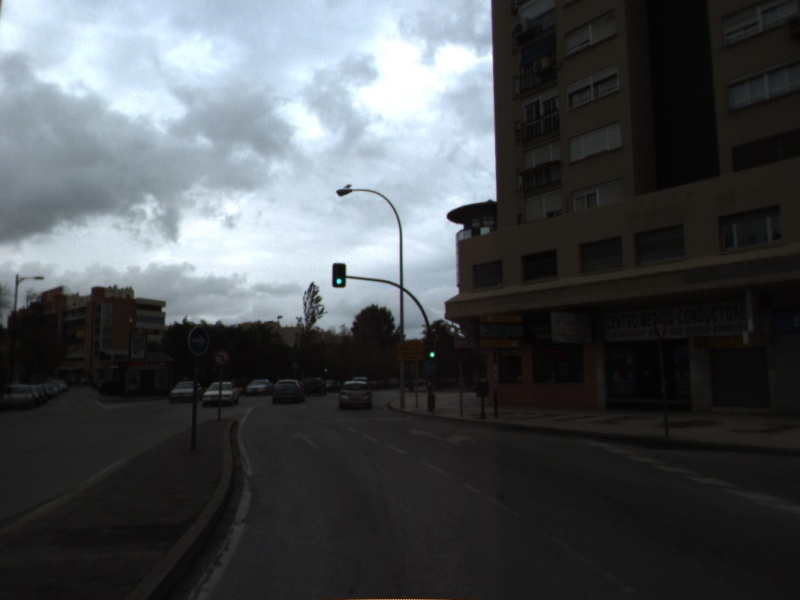STRAIGHT: (290, 429, 322, 450)
STRAIGHT_RIGHT: (406, 427, 479, 449)
